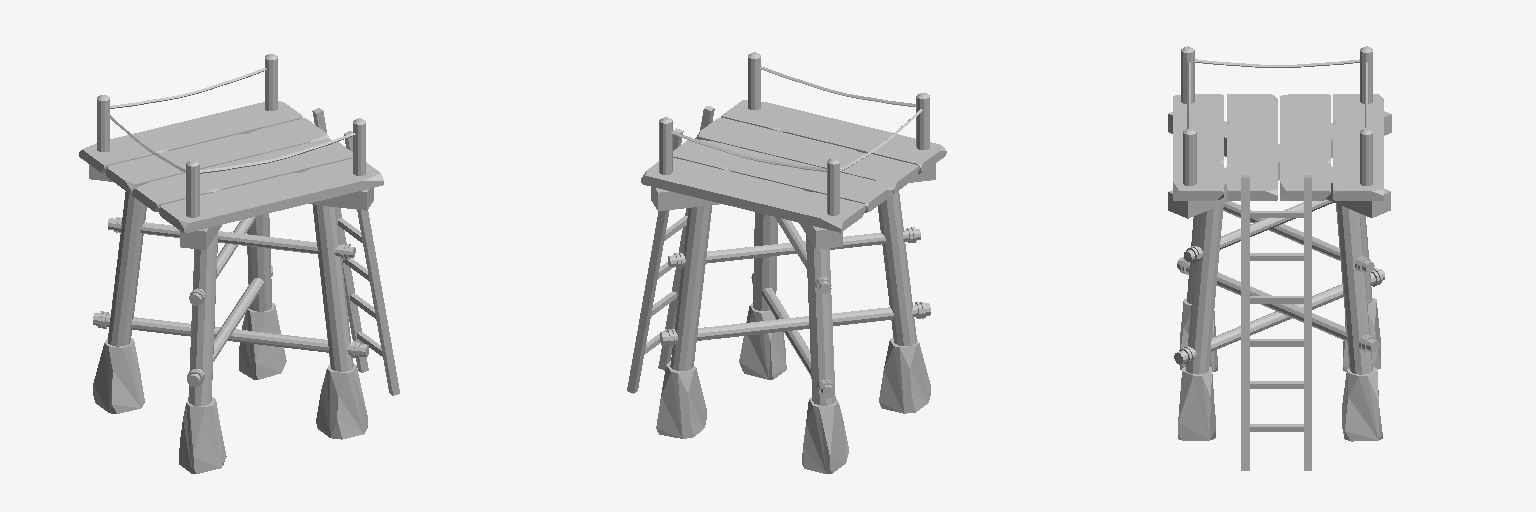
File: Tore-Lv1_remake.obj
3 renders of one model, left to right at view 1: azimuth 30°, elevation 25°; view 2: azimuth 150°, elevation 25°; view 3: azimuth 270°, elevation 25°, orthographic.
Parts seen in each view (by area): view 1: Cube.010_Cube.004, Cube.008_Cube.004, Cube.007_Cube.004, Cube.009_Cube.004, Hagdanan, Cylinder.002_Cylinder, Cylinder.004_Cylinder, Cylinder.003_Cylinder, Cube.005_Cube.003, Cube.003, Cube.004_Cube.003, Cylinder.008_Cylinder.003 (+13 smaller); view 2: Cube.007_Cube.004, Cube.009_Cube.004, Cube.010_Cube.004, Cube.008_Cube.004, Hagdanan, Cylinder.001_Cylinder, Cylinder.003_Cylinder, Cylinder.004_Cylinder, Cube.004_Cube.003, Cube.006_Cube.003, Cube.003, Cylinder.007_Cylinder.003 (+12 smaller); view 3: Hagdanan, Cube.008_Cube.004, Cube.009_Cube.004, Cube.007_Cube.004, Cube.010_Cube.004, Cylinder.002_Cylinder, Cylinder.001_Cylinder, Cube.006_Cube.003, Cube.005_Cube.003, Cylinder.008_Cylinder.003, Cylinder.007_Cylinder.003, Cylinder.006_Cylinder.003 (+10 smaller).
Part boxes in pixels (x1,y1,x2,y2): Cube.010_Cube.004: (159, 158, 383, 232); Cube.008_Cube.004: (106, 118, 329, 193); Cube.007_Cube.004: (79, 101, 302, 172); Cube.009_Cube.004: (132, 138, 352, 211); Hagdanan: (312, 108, 399, 395); Cylinder.002_Cylinder: (313, 205, 353, 371); Cylinder.004_Cylinder: (108, 192, 146, 346); Cylinder.003_Cylinder: (188, 233, 217, 405); Cube.005_Cube.003: (316, 364, 367, 439); Cube.003: (93, 338, 144, 413); Cube.004_Cube.003: (179, 397, 226, 473); Cylinder.008_Cylinder.003: (93, 311, 368, 357); Cube.007_Cube.004: (641, 158, 865, 232); Cube.009_Cube.004: (695, 118, 919, 193); Cube.010_Cube.004: (721, 100, 946, 173); Cube.008_Cube.004: (673, 139, 892, 212); Hagdanan: (627, 106, 714, 393); Cylinder.001_Cylinder: (670, 205, 711, 370); Cylinder.003_Cylinder: (878, 191, 916, 345); Cylinder.004_Cylinder: (806, 235, 835, 405); Cube.004_Cube.003: (879, 338, 930, 413); Cube.006_Cube.003: (656, 362, 706, 438); Cube.003: (802, 397, 848, 473); Cylinder.007_Cylinder.003: (660, 302, 930, 345); Hagdanan: (1241, 175, 1311, 470); Cube.008_Cube.004: (1280, 94, 1330, 200); Cube.009_Cube.004: (1227, 94, 1277, 200); Cube.007_Cube.004: (1333, 94, 1383, 200); Cube.010_Cube.004: (1173, 94, 1223, 200); Cylinder.002_Cylinder: (1186, 204, 1223, 374); Cylinder.001_Cylinder: (1336, 203, 1372, 374); Cube.006_Cube.003: (1342, 367, 1382, 441); Cube.005_Cube.003: (1178, 367, 1215, 440); Cylinder.008_Cylinder.003: (1174, 268, 1384, 364); Cylinder.007_Cylinder.003: (1177, 257, 1379, 352); Cylinder.006_Cylinder.003: (1223, 201, 1374, 272).
Size of the model in its own units: 7.97 by 9.44 by 6.15.